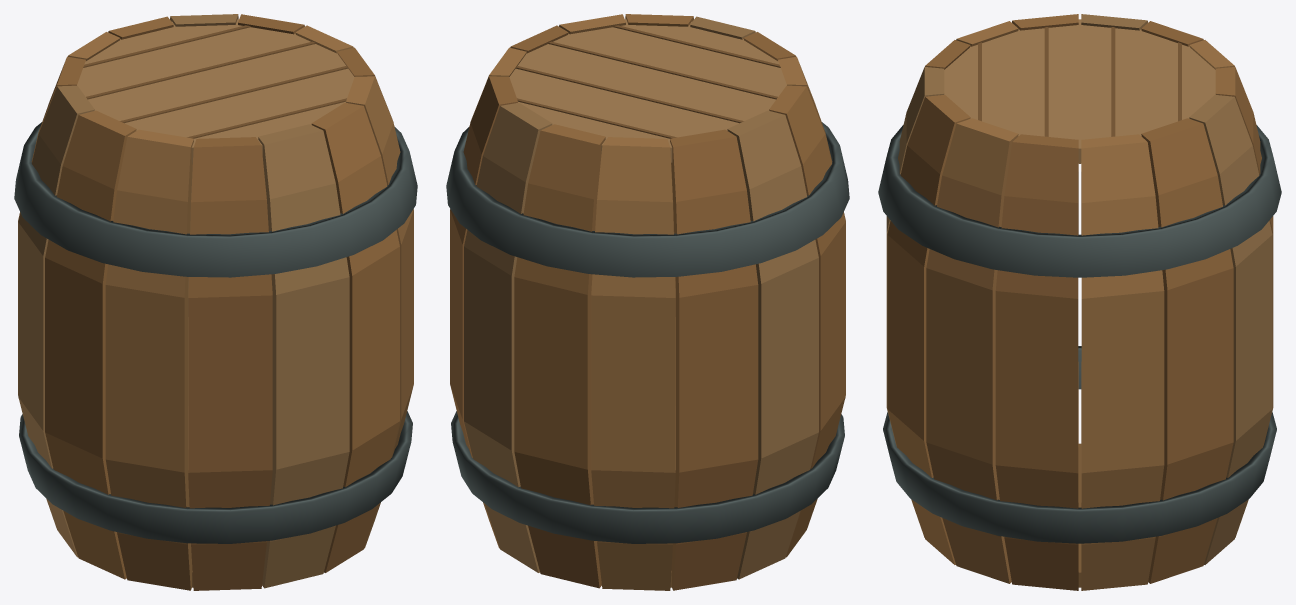
File: farm-barrel.glb
The picture shows the model from 3 angles, left to right: view 1: azimuth 30°, elevation 25°; view 2: azimuth 150°, elevation 25°; view 3: azimuth 270°, elevation 25°; orthographic projection.
Visible parts, largest first — view 1: farm-barrel; view 2: farm-barrel; view 3: farm-barrel.
Boxes of the visible parts, x1,y1,x2,y2 form: farm-barrel: [14, 14, 417, 590]; farm-barrel: [446, 14, 849, 590]; farm-barrel: [878, 14, 1281, 590].
Bounding box in the file's own units: 1.09 × 1.32 × 1.09.
